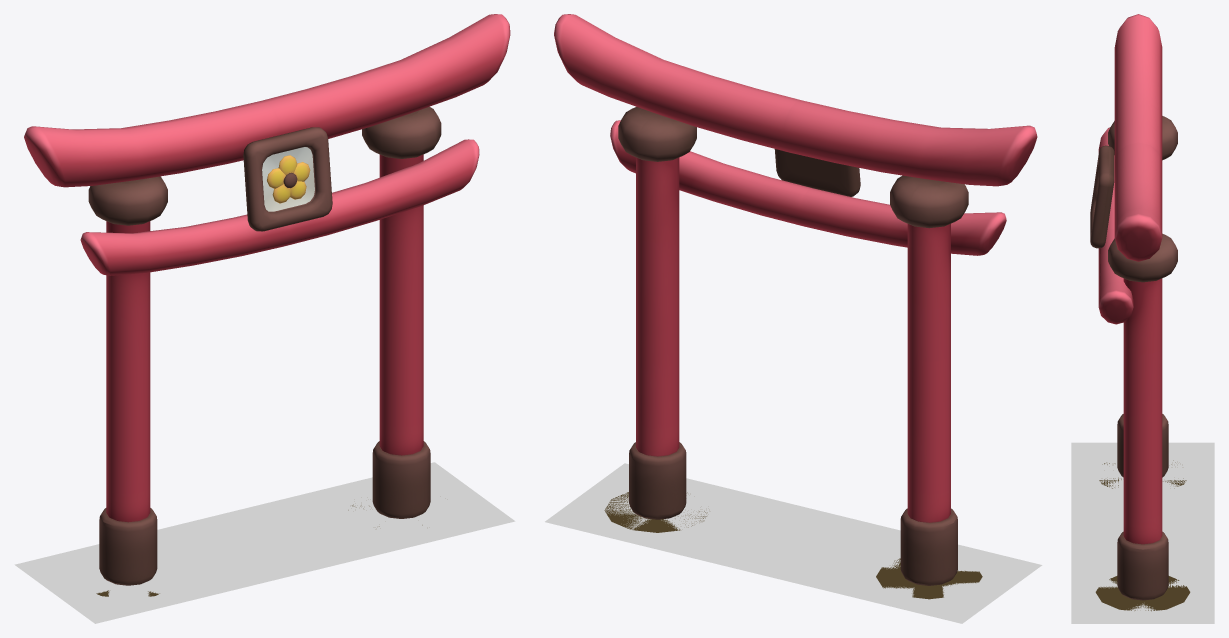
File: JP_Torri.fbx
The picture shows the model from 3 angles, left to right: view 1: azimuth 30°, elevation 25°; view 2: azimuth 150°, elevation 25°; view 3: azimuth 270°, elevation 25°; orthographic projection. The views are drawn at different scales.
Visible parts, largest first — view 1: polySurface12, Torri_Grid_Large, polySurface4, Torri_Grid; view 2: polySurface12, Torri_Grid_Large, Torri_Grid, Shadow, polySurface4; view 3: polySurface12, Torri_Grid_Large, Torri_Grid, polySurface4, Shadow.
Boxes of the visible parts, x1,y1,x2,y2 form: polySurface12: (24,14,510,585); Torri_Grid_Large: (14,462,515,623); polySurface4: (243,127,332,231); Torri_Grid: (207,513,313,589); polySurface12: (554,14,1037,585); Torri_Grid_Large: (545,463,1042,623); Torri_Grid: (684,499,900,589); Shadow: (604,492,982,599); polySurface4: (774,149,860,196); polySurface12: (1098,14,1177,600); Torri_Grid_Large: (1071,442,1214,623); Torri_Grid: (1071,503,1214,563); polySurface4: (1090,145,1114,248); Shadow: (1095,460,1190,611).
Bounding box in the file's own units: 3.41 × 3.23 × 1.
